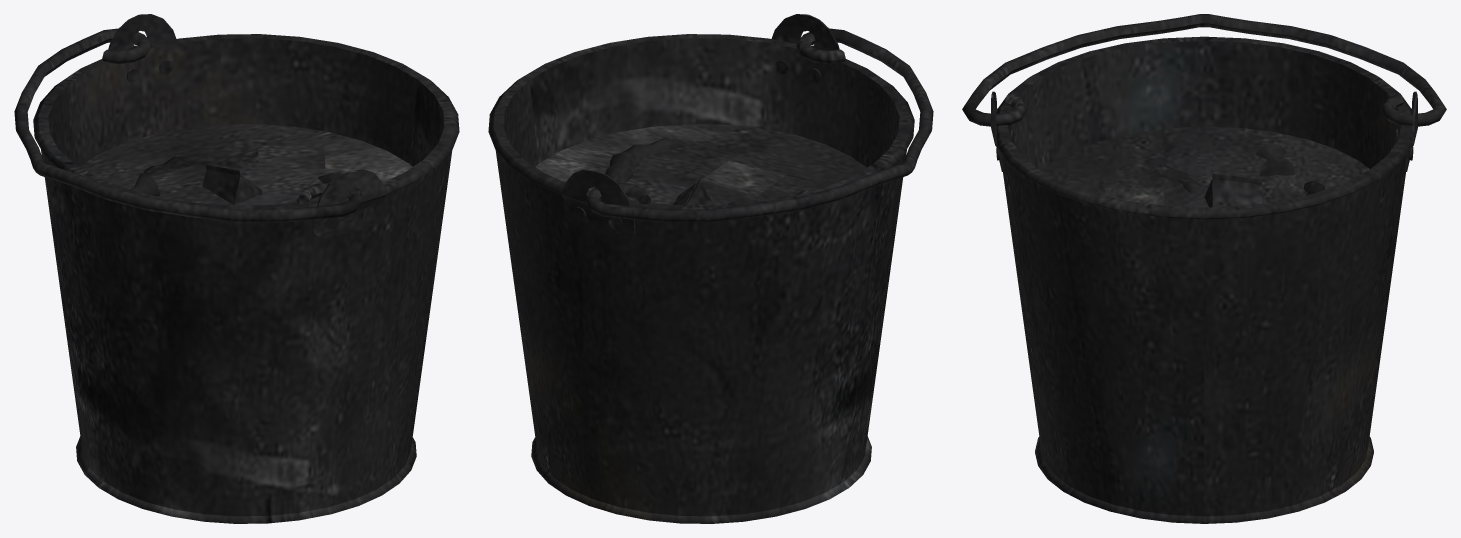
The model's file is SM_Bucket_03.fbx.
3 views of the same model, side by side, from view 1: azimuth 30°, elevation 25°; view 2: azimuth 150°, elevation 25°; view 3: azimuth 270°, elevation 25° (orthographic).
Visible parts, largest first — view 1: SM_Bucket_03; view 2: SM_Bucket_03; view 3: SM_Bucket_03.
Boxes of the visible parts, x1=… form: SM_Bucket_03: x1=14, y1=14, x2=459, y2=523; SM_Bucket_03: x1=488, y1=14, x2=933, y2=523; SM_Bucket_03: x1=962, y1=14, x2=1446, y2=523.
Bounding box in the file's own units: 41.46 × 44.2 × 36.18.
Materials: 1 (1 with a texture image).
